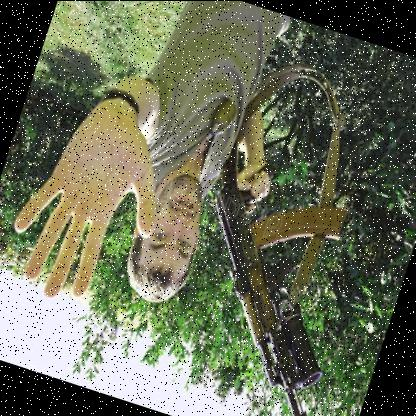rifle: (143, 146, 410, 416)
